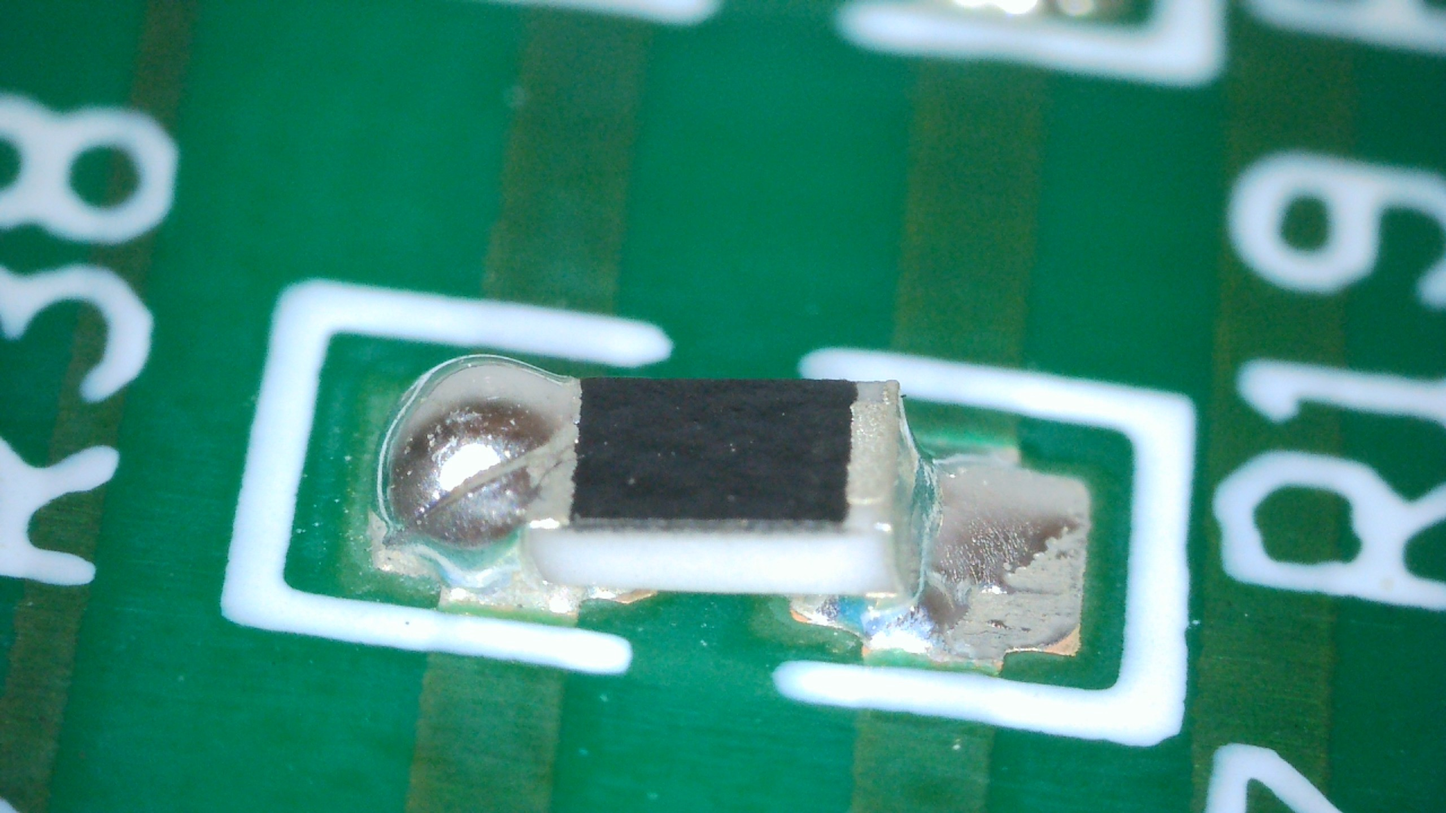NG: (849, 382, 1090, 661), (380, 357, 580, 546)
